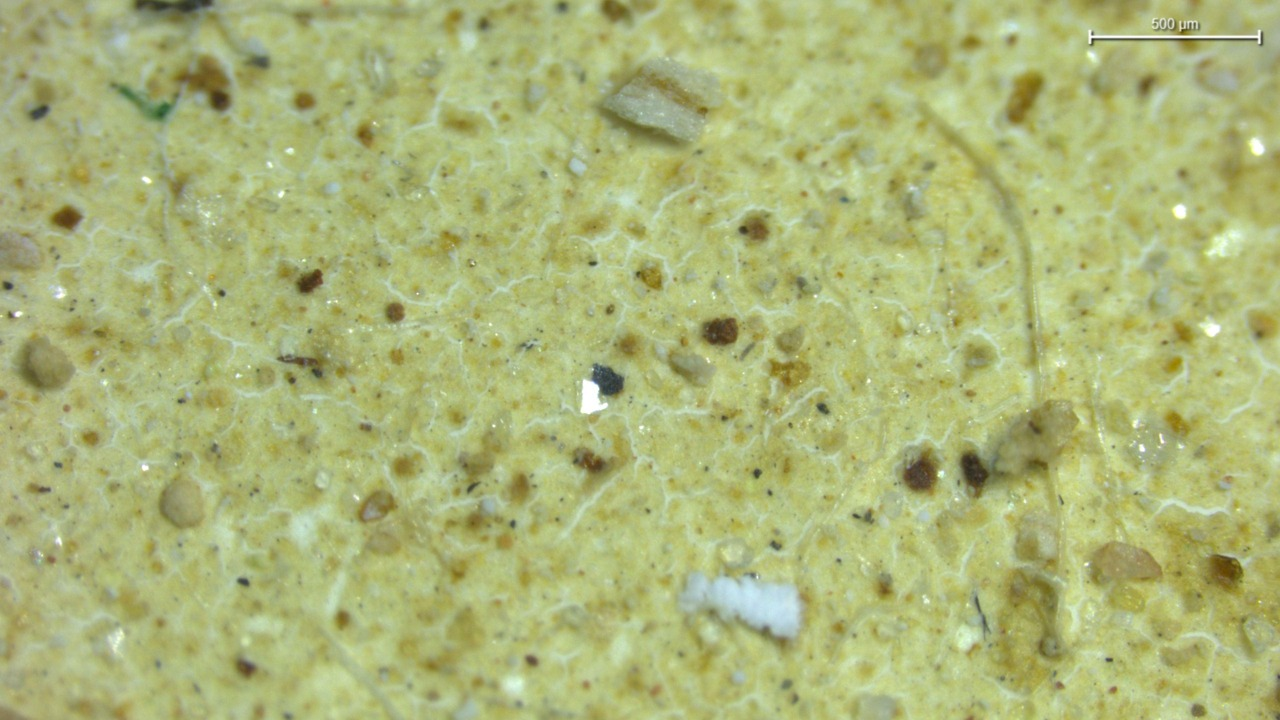microplastic_fragment: (612, 52, 724, 142), (983, 388, 1085, 475), (685, 574, 802, 645), (30, 337, 76, 392), (160, 476, 206, 530)
